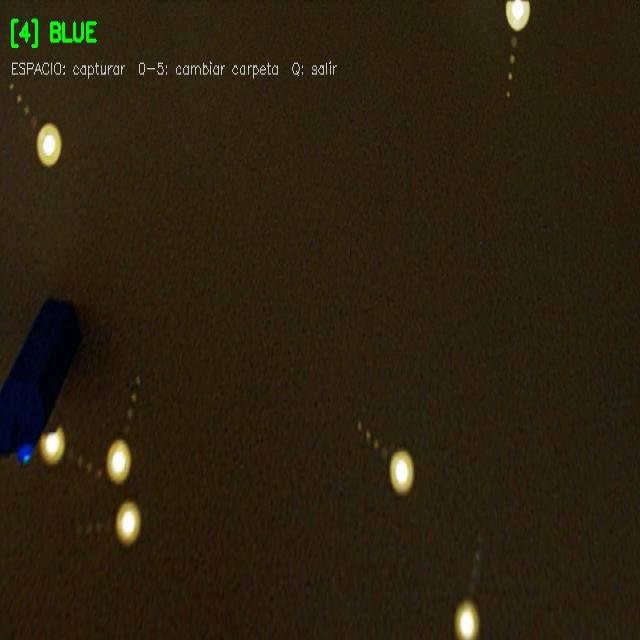blue: (0, 292, 88, 464)
